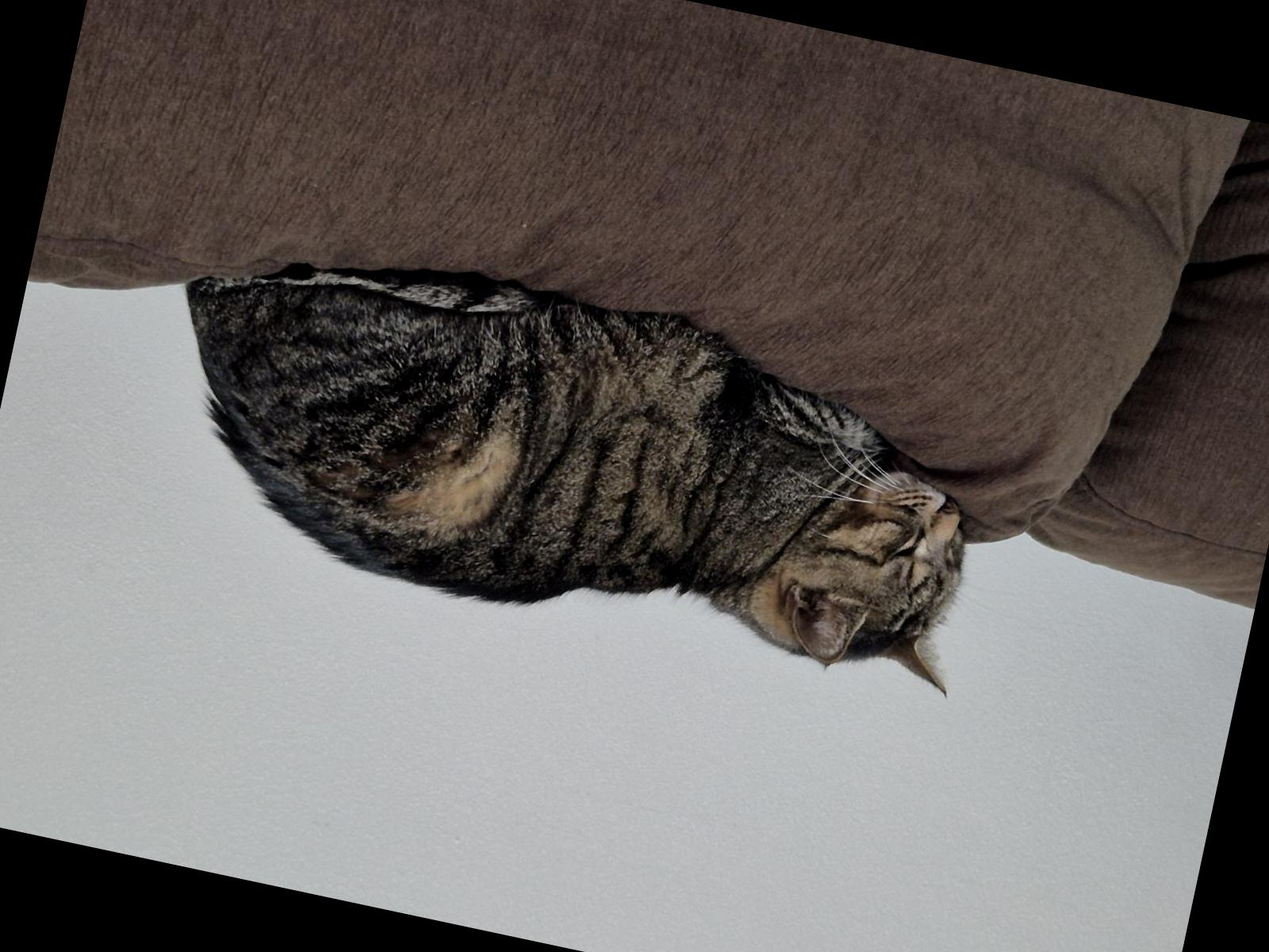macka: (140, 210, 1013, 701)
